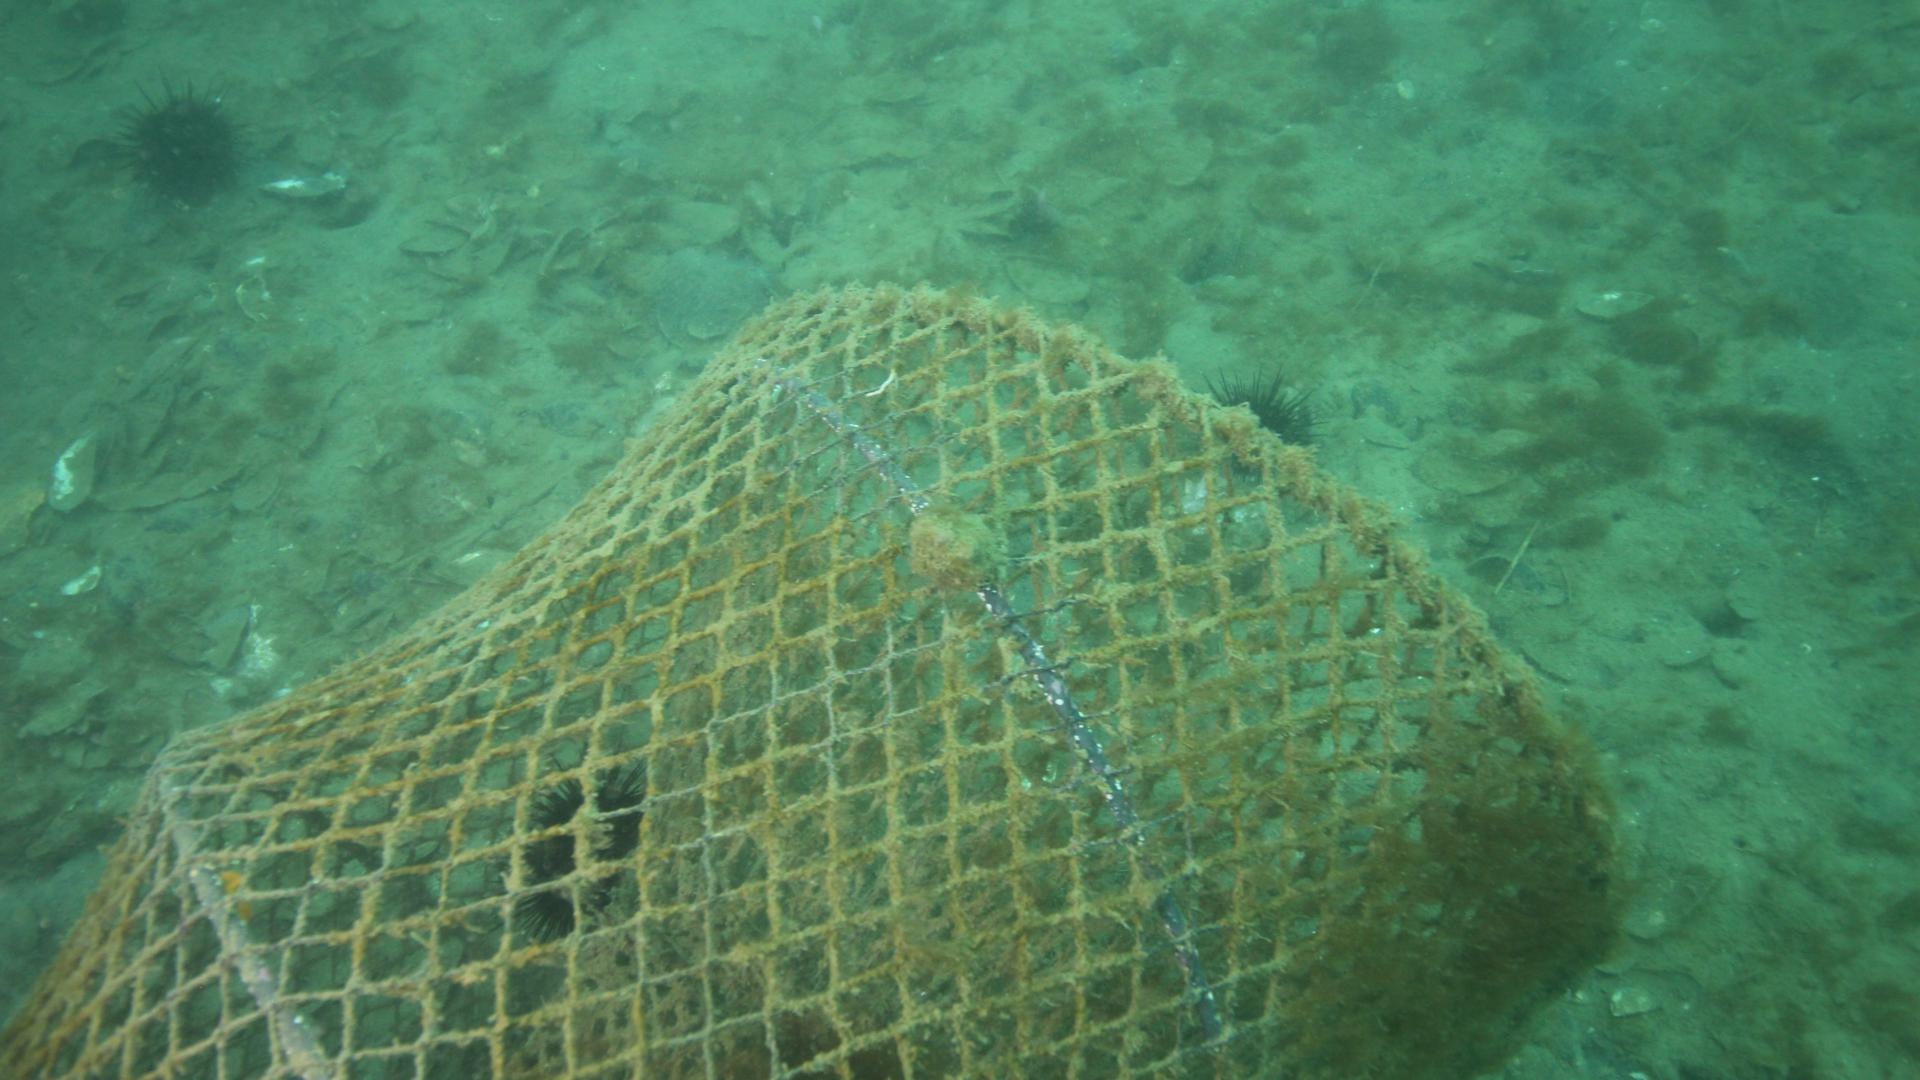spring fish trap: (0, 278, 1622, 1080)
